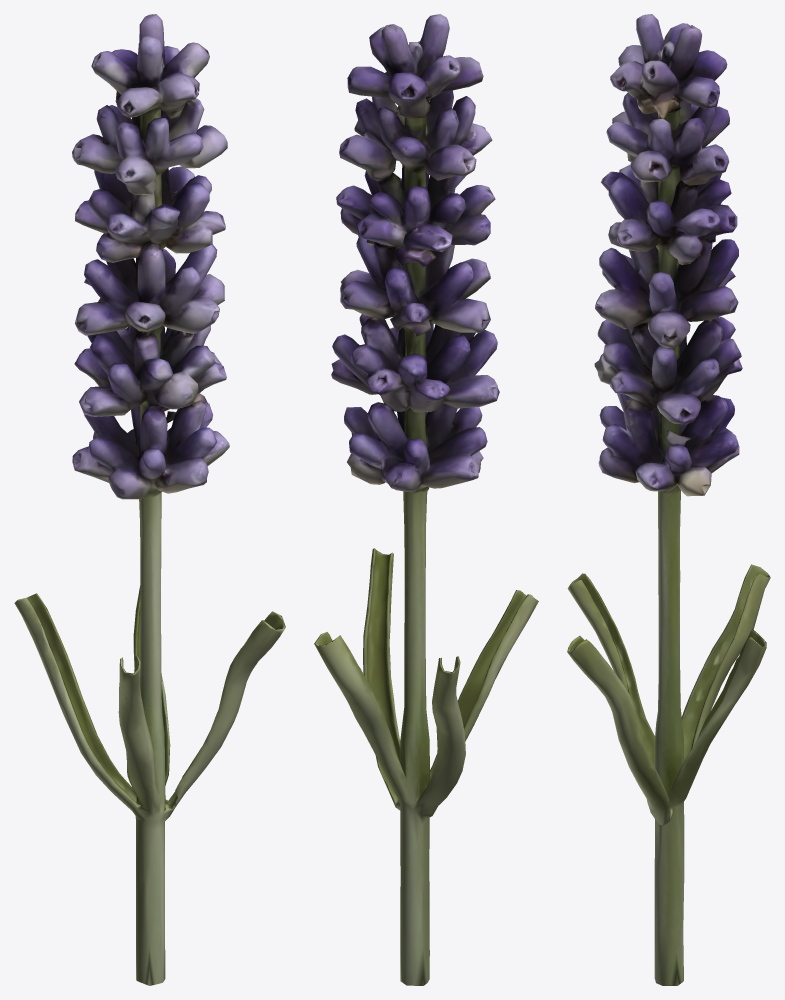
File: lavender-bud.glb
The picture shows the model from 3 angles, left to right: view 1: azimuth 30°, elevation 25°; view 2: azimuth 150°, elevation 25°; view 3: azimuth 270°, elevation 25°; orthographic projection.
Visible parts, largest first — view 1: tripo_node_01a22165-6ce8-7066-86dc-f9a9ac1a1434; view 2: tripo_node_01a22165-6ce8-7066-86dc-f9a9ac1a1434; view 3: tripo_node_01a22165-6ce8-7066-86dc-f9a9ac1a1434.
Boxes of the visible parts, <box> form: tripo_node_01a22165-6ce8-7066-86dc-f9a9ac1a1434: <box>14,14,285,985</box>; tripo_node_01a22165-6ce8-7066-86dc-f9a9ac1a1434: <box>314,14,538,985</box>; tripo_node_01a22165-6ce8-7066-86dc-f9a9ac1a1434: <box>567,14,770,985</box>.
Bounding box in the file's own units: 0.1937 × 1 × 0.1921.
1 material, 1 textured.
